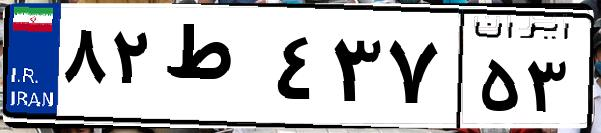2: (110, 28, 158, 98)
3: (330, 28, 385, 110), (525, 38, 570, 115)
4: (270, 28, 330, 110)
5: (475, 38, 525, 113)
7: (385, 28, 445, 110)
8: (57, 26, 110, 100)
ط: (158, 20, 270, 120)
